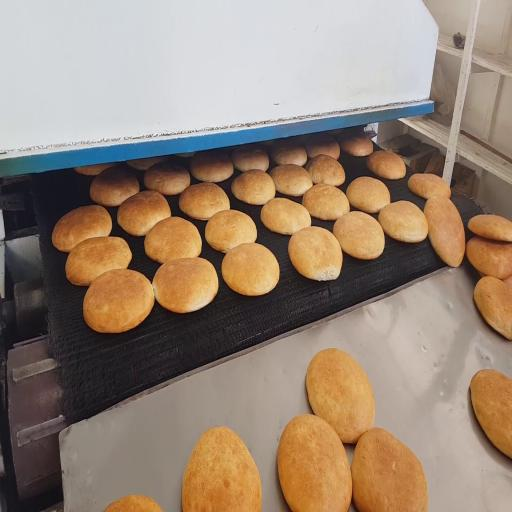bread: (278, 415, 352, 511), (182, 427, 261, 511), (306, 348, 374, 443), (352, 428, 428, 511), (83, 270, 154, 333), (470, 369, 511, 458), (153, 258, 218, 313), (66, 237, 131, 285), (222, 243, 279, 295), (288, 227, 342, 281), (424, 195, 465, 266), (52, 205, 112, 252), (145, 217, 201, 263), (117, 191, 170, 236), (474, 276, 511, 340), (334, 212, 384, 259), (205, 210, 257, 253), (379, 201, 428, 242), (90, 167, 139, 206), (466, 237, 511, 279), (261, 198, 311, 235), (179, 183, 229, 220), (302, 183, 349, 220), (346, 177, 390, 213), (231, 170, 275, 205), (144, 162, 190, 195), (269, 165, 312, 196), (190, 151, 233, 182), (306, 155, 345, 186), (468, 215, 511, 241), (367, 151, 406, 179), (408, 174, 450, 199), (104, 495, 162, 511), (232, 146, 269, 171), (271, 141, 307, 165), (305, 138, 340, 160), (340, 134, 373, 156), (127, 156, 168, 170), (75, 163, 117, 176), (176, 152, 195, 158), (504, 276, 511, 286)
